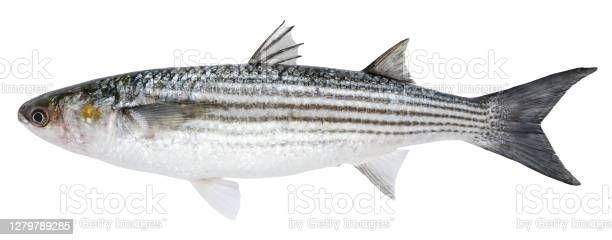Mullet: (18, 18, 602, 203)
